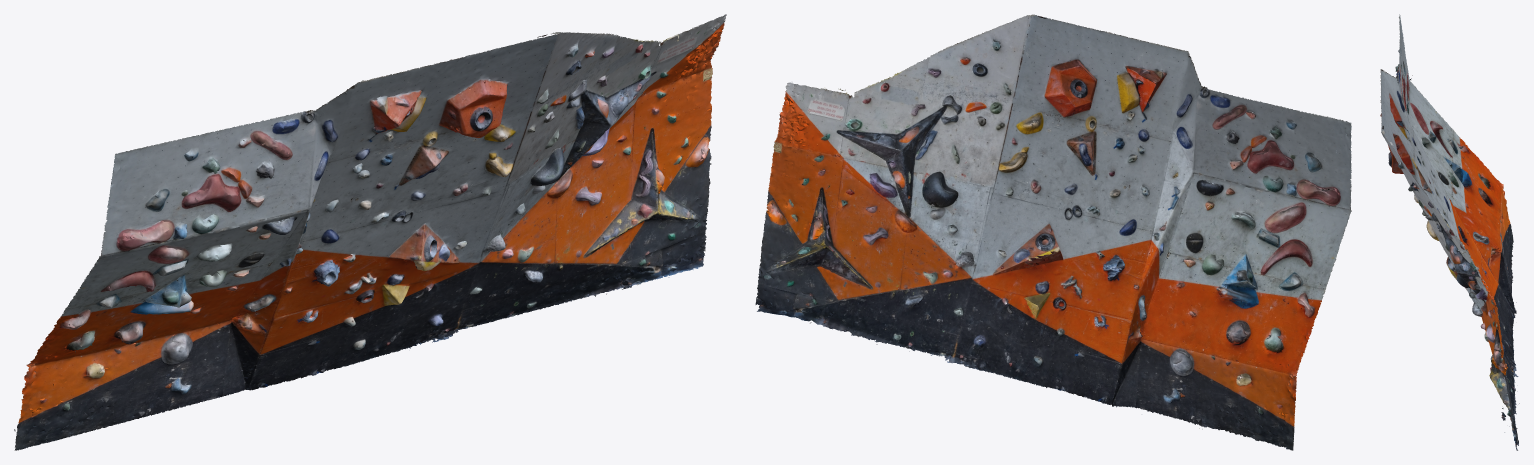
Rendered from plaquita_peru_beach_-_mayo_2023 (2).glb.
3 renders of one model, left to right at view 1: azimuth 30°, elevation 25°; view 2: azimuth 150°, elevation 25°; view 3: azimuth 270°, elevation 25°, orthographic. The views are drawn at different scales.
Visible parts, largest first — view 1: Object_2; view 2: Object_2; view 3: Object_2.
Boxes of the visible parts, box(x1,y1,x2,y2) form: Object_2: box(14, 14, 726, 450); Object_2: box(755, 14, 1351, 450); Object_2: box(1380, 14, 1519, 450).
Bounding box in the file's own units: 11.4 × 6.04 × 3.06.
1 material, 1 textured.
